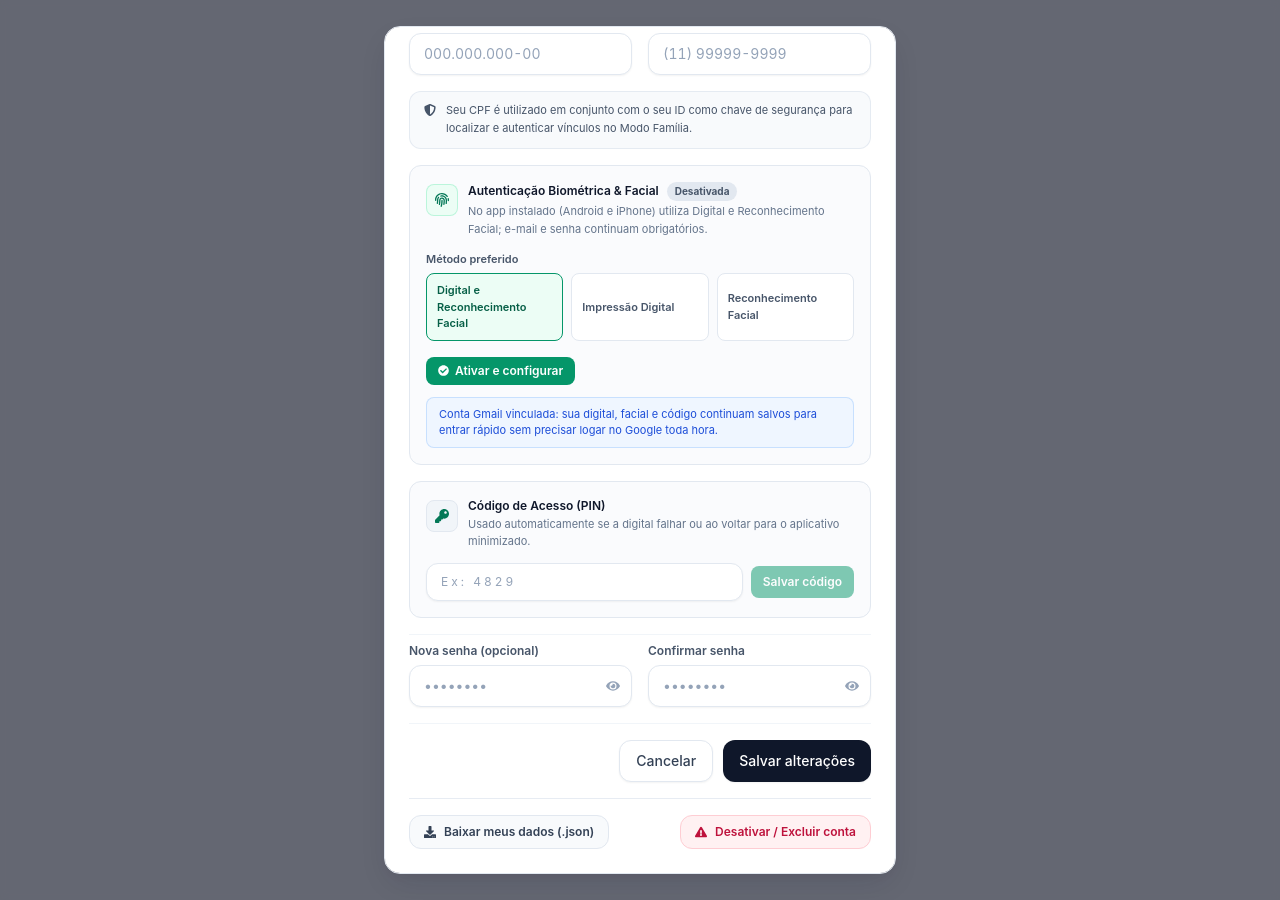
Scenario: Biometric Settings, Platform Login & Due-Date Notifications › allows configuring and removing Access Code (PIN) inside UserEditModal alongside biometrics
Later steps or results of the test are not shown.
(page scrolled)
In the password field with test id "pin-settings-input": (584, 582) [426,563,743,601], type "4829"
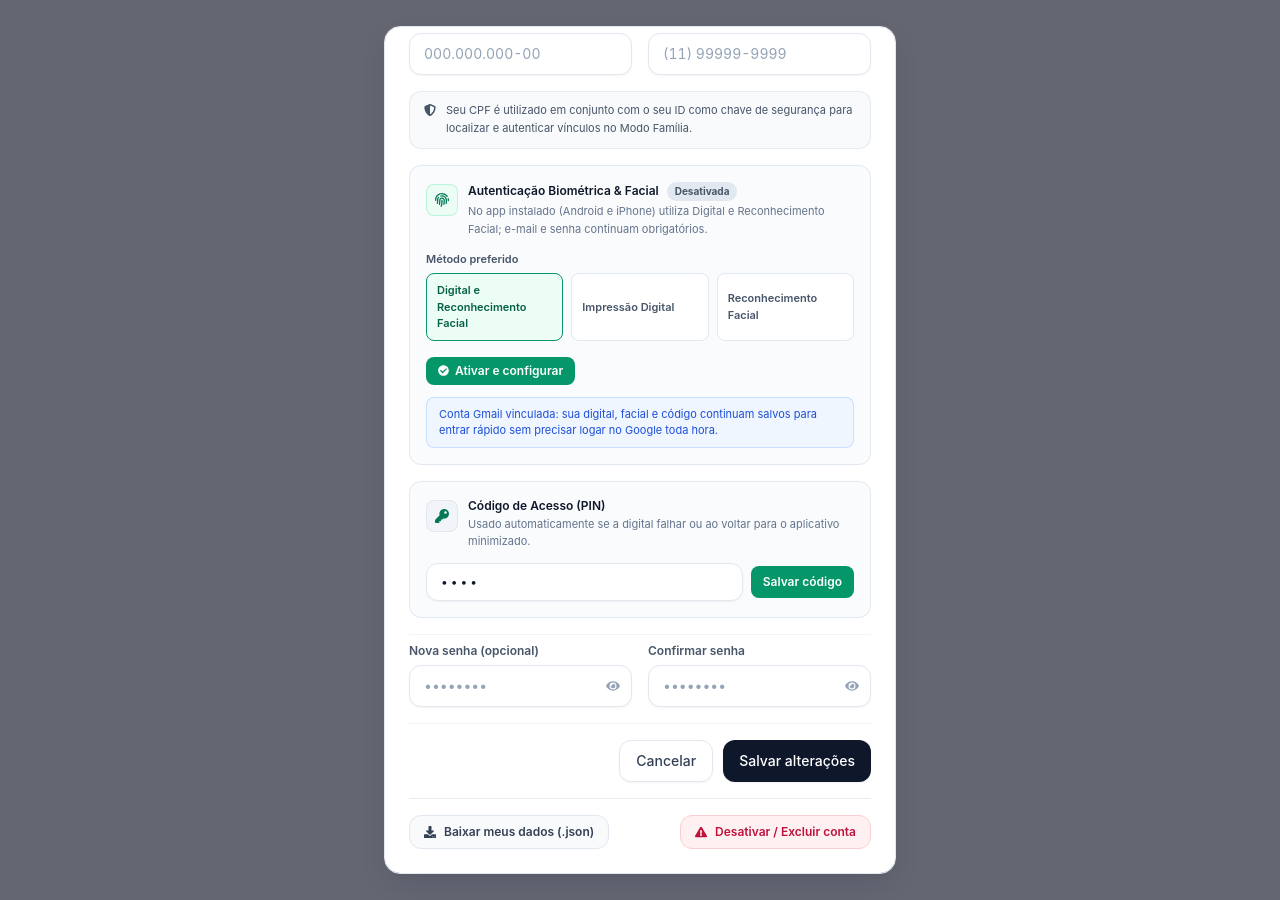
Click the button with test id "pin-save-btn": (802, 582) [751,566,854,598]
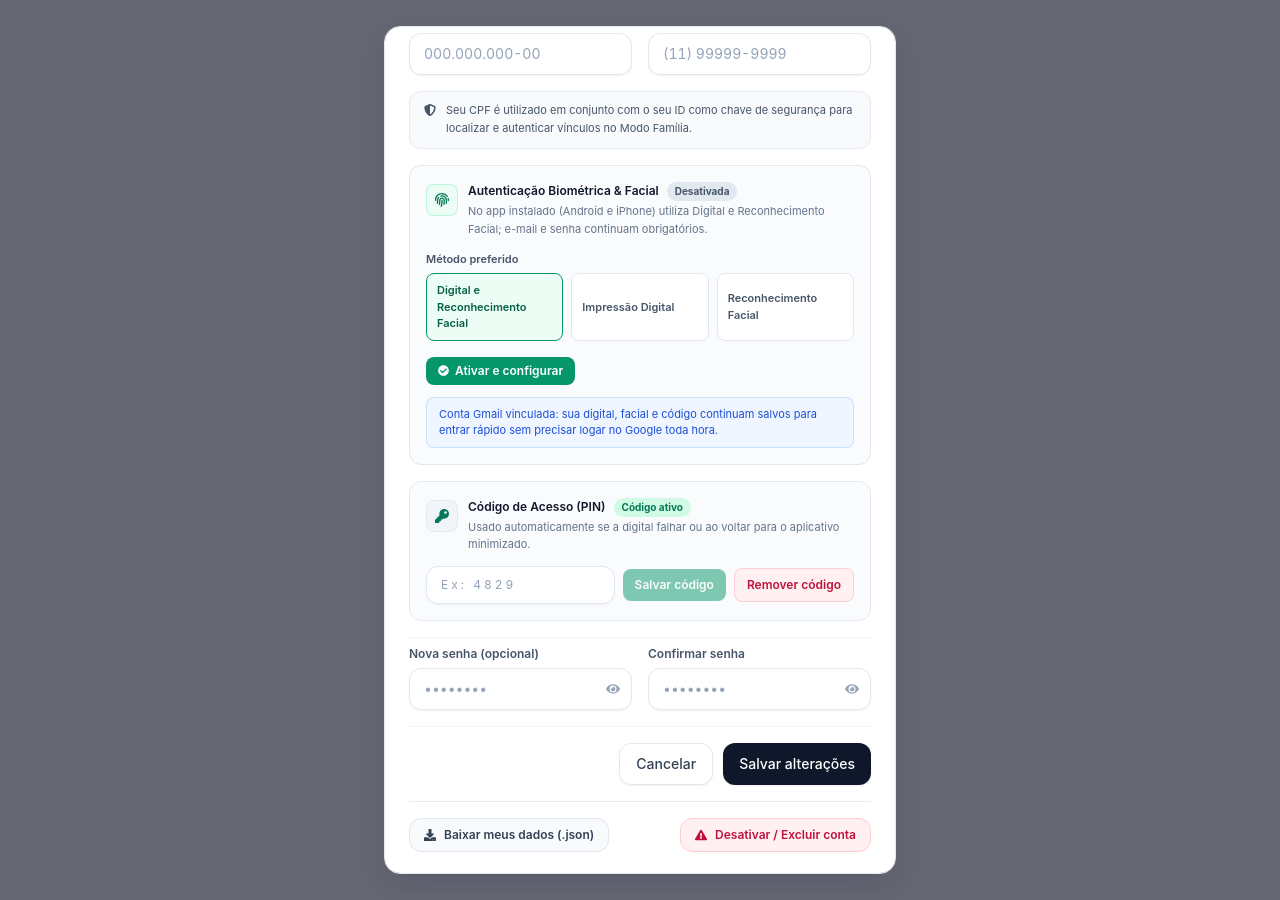
expect the button with test id "pin-remove-btn" is shown: met, box [734,568,854,602]
